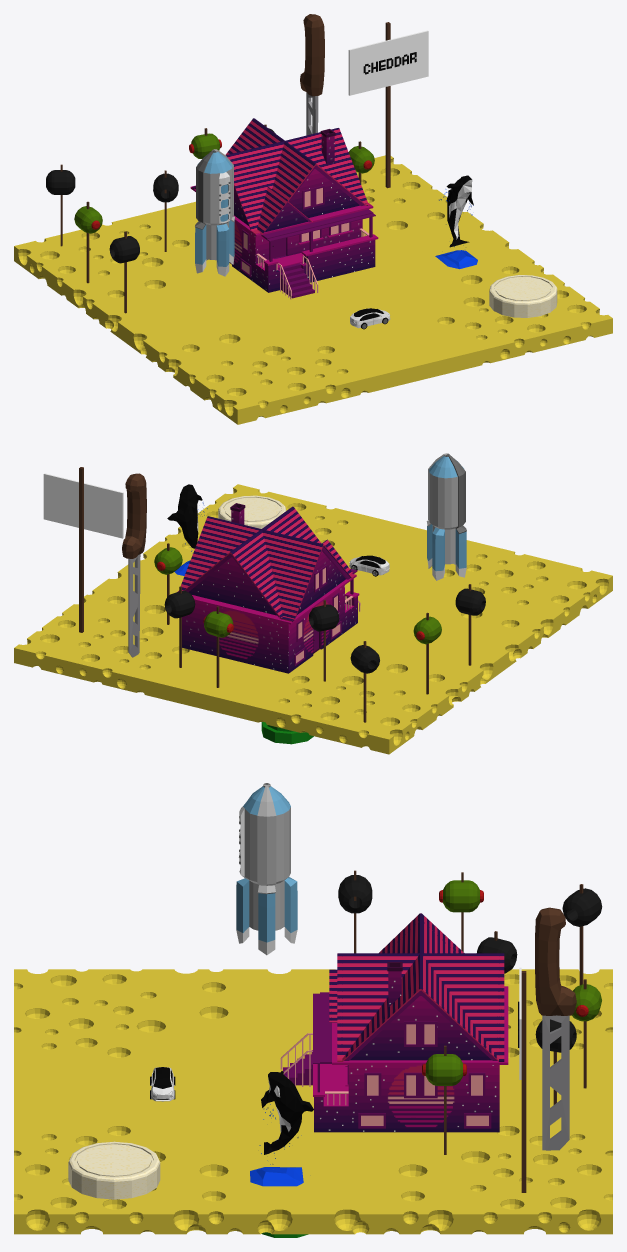
The picture shows the model from 3 angles, top to bottom: view 1: azimuth 30°, elevation 25°; view 2: azimuth 150°, elevation 25°; view 3: azimuth 270°, elevation 25°; orthographic projection. The views are drawn at different scales.
Parts seen in each view (by area): view 1: Cube.022, Cube.156, Cube.023, OBJRANDOM_ROCKETSHIP, Cylinder.016, Cube.024, ANIMAL_ORCA, Sphere.017, Sphere.016, Sphere.018, Sphere.020, VEHICLES_TESLA (+2 smaller); view 2: Cube.022, Cube.156, Cube.023, OBJRANDOM_ROCKETSHIP, Cube.024, Cylinder.016, ANIMAL_ORCA, Sphere.017, Sphere.022, Sphere.016, Sphere.021, Sphere.020 (+4 smaller); view 3: Cube.022, Cube.156, OBJRANDOM_ROCKETSHIP, Cube.024, Cylinder.016, ANIMAL_ORCA, Cube.023, Sphere.016, Sphere.019, Sphere.018, Sphere.017, Sphere.022 (+3 smaller).
Boxes of the visible parts, bbox=[...] form: Cube.022: bbox=[14, 155, 612, 424]; Cube.156: bbox=[190, 118, 378, 299]; Cube.023: bbox=[348, 22, 428, 188]; OBJRANDOM_ROCKETSHIP: bbox=[195, 149, 234, 276]; Cylinder.016: bbox=[489, 275, 557, 317]; Cube.024: bbox=[300, 14, 324, 135]; ANIMAL_ORCA: bbox=[435, 175, 477, 269]; Sphere.017: bbox=[109, 231, 139, 313]; Sphere.016: bbox=[46, 164, 75, 246]; Sphere.018: bbox=[74, 201, 102, 283]; Sphere.020: bbox=[153, 170, 178, 251]; VEHICLES_TESLA: bbox=[350, 308, 390, 329]; Cube.022: bbox=[14, 484, 612, 754]; Cube.156: bbox=[177, 503, 360, 673]; Cube.023: bbox=[43, 467, 123, 632]; OBJRANDOM_ROCKETSHIP: bbox=[426, 453, 466, 580]; Cube.024: bbox=[122, 473, 146, 657]; Cylinder.016: bbox=[218, 495, 286, 528]; ANIMAL_ORCA: bbox=[167, 484, 207, 575]; Sphere.017: bbox=[455, 584, 485, 665]; Sphere.022: bbox=[203, 606, 233, 687]; Sphere.016: bbox=[350, 641, 379, 722]; Sphere.021: bbox=[164, 586, 195, 667]; Sphere.020: bbox=[309, 600, 339, 681]; Cube.022: bbox=[14, 969, 612, 1234]; Cube.156: bbox=[280, 913, 508, 1132]; OBJRANDOM_ROCKETSHIP: bbox=[236, 783, 297, 955]; Cube.024: bbox=[535, 907, 576, 1150]; Cylinder.016: bbox=[68, 1141, 160, 1199]; ANIMAL_ORCA: bbox=[250, 1071, 313, 1186]; Cube.023: bbox=[518, 967, 526, 1192]; Sphere.016: bbox=[562, 884, 602, 985]; Sphere.019: bbox=[422, 1045, 466, 1154]; Sphere.018: bbox=[439, 872, 483, 951]; Sphere.017: bbox=[338, 870, 372, 953]; Sphere.022: bbox=[572, 979, 601, 1088].
Bounding box in the file's own units: 3917 × 2590 × 4000.
33 materials, 5 textured.
